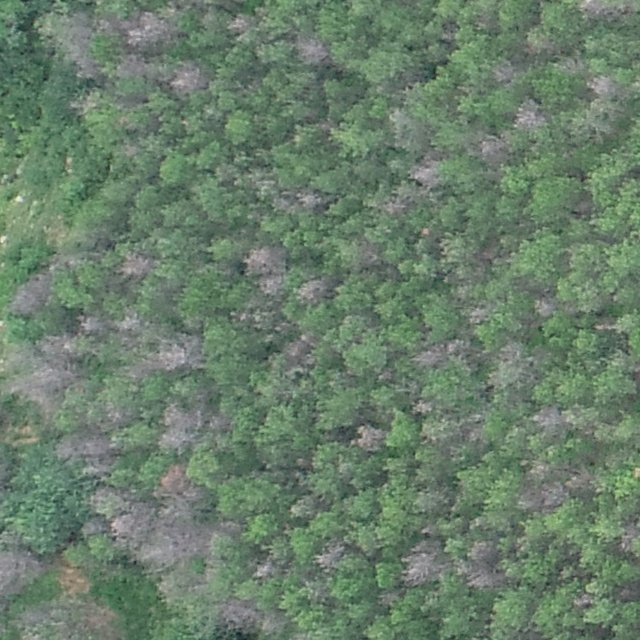unhealthy: (129, 507, 218, 573), (10, 361, 74, 413), (51, 12, 99, 78), (53, 430, 115, 470), (157, 401, 203, 453), (124, 8, 180, 50), (0, 544, 38, 596), (156, 461, 204, 502), (9, 272, 54, 315), (399, 540, 444, 583), (155, 335, 204, 373), (78, 485, 133, 516), (77, 601, 122, 638), (490, 337, 530, 378), (166, 58, 210, 94), (386, 110, 425, 150), (242, 240, 286, 272), (218, 596, 258, 631), (411, 341, 459, 369), (15, 603, 54, 636), (513, 99, 550, 131), (37, 331, 77, 360), (408, 156, 444, 188), (294, 34, 330, 66), (573, 0, 630, 20), (518, 483, 557, 512), (476, 134, 511, 166), (116, 309, 147, 345), (117, 250, 155, 278), (284, 188, 330, 211), (283, 332, 317, 363), (313, 540, 347, 571), (532, 403, 567, 432), (353, 422, 386, 452), (67, 87, 101, 116), (116, 52, 152, 79), (463, 565, 501, 590), (297, 277, 330, 305), (256, 606, 288, 634), (585, 73, 619, 99), (618, 516, 640, 554), (75, 311, 108, 336), (562, 467, 594, 491), (122, 358, 153, 382), (466, 538, 498, 561), (488, 59, 516, 84), (381, 194, 411, 217), (256, 272, 284, 296), (226, 12, 253, 33), (252, 556, 276, 579), (534, 295, 558, 317), (570, 590, 594, 610), (465, 304, 490, 323), (101, 518, 126, 536), (378, 589, 402, 607), (411, 399, 433, 416)
